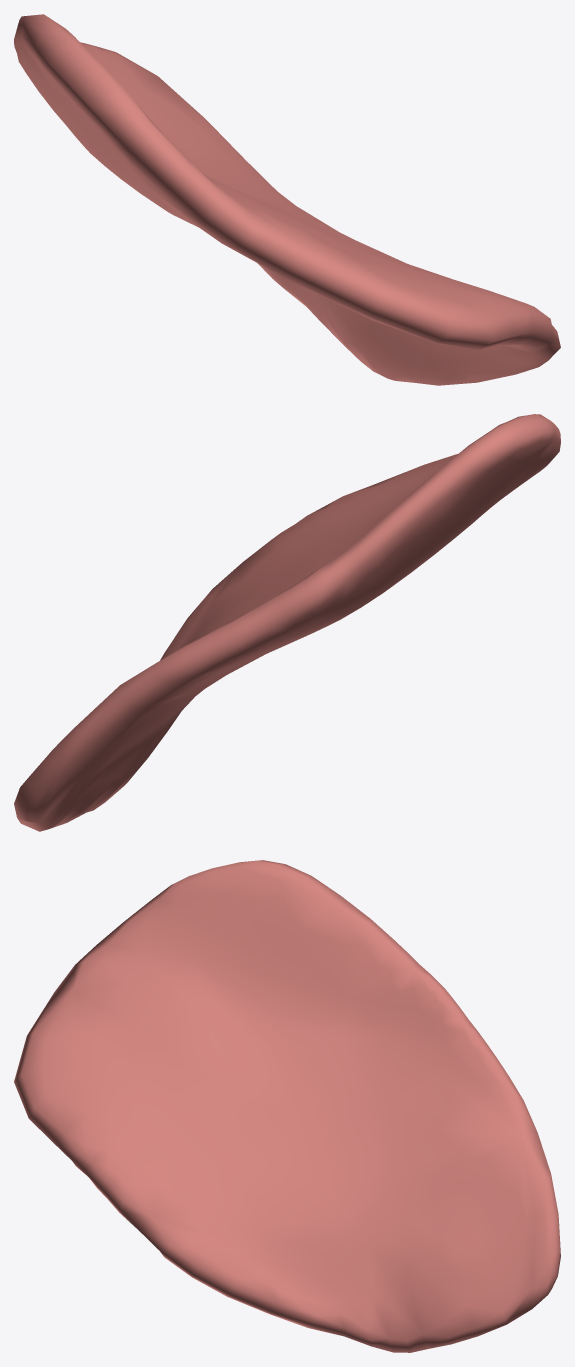
The picture shows the model from 3 angles, top to bottom: view 1: azimuth 30°, elevation 25°; view 2: azimuth 150°, elevation 25°; view 3: azimuth 270°, elevation 25°; orthographic projection. The views are drawn at different scales.
Parts seen in each view (by area): view 1: ZA_a5c483100e8edaf4; view 2: ZA_a5c483100e8edaf4; view 3: ZA_a5c483100e8edaf4.
Part boxes in pixels (x1,y1,x2,y2): ZA_a5c483100e8edaf4: [14, 14, 560, 385]; ZA_a5c483100e8edaf4: [14, 414, 560, 831]; ZA_a5c483100e8edaf4: [14, 860, 560, 1352].
Bounding box in the file's own units: 0.00598 × 0.0063 × 0.00893.
